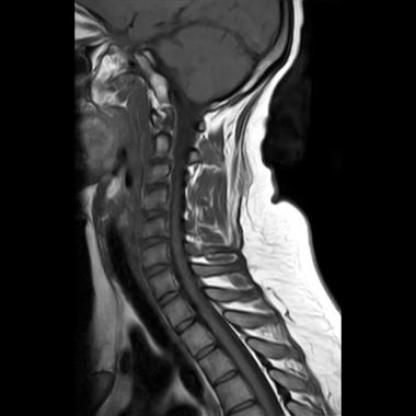Degenerative Disc Diseaserotation: (138, 232, 170, 252), (141, 205, 171, 223)
Disc Bulgerotation: (138, 232, 169, 251), (141, 207, 171, 222), (142, 182, 170, 194), (146, 158, 170, 169)
Osteophytesrotation: (137, 235, 169, 251)
